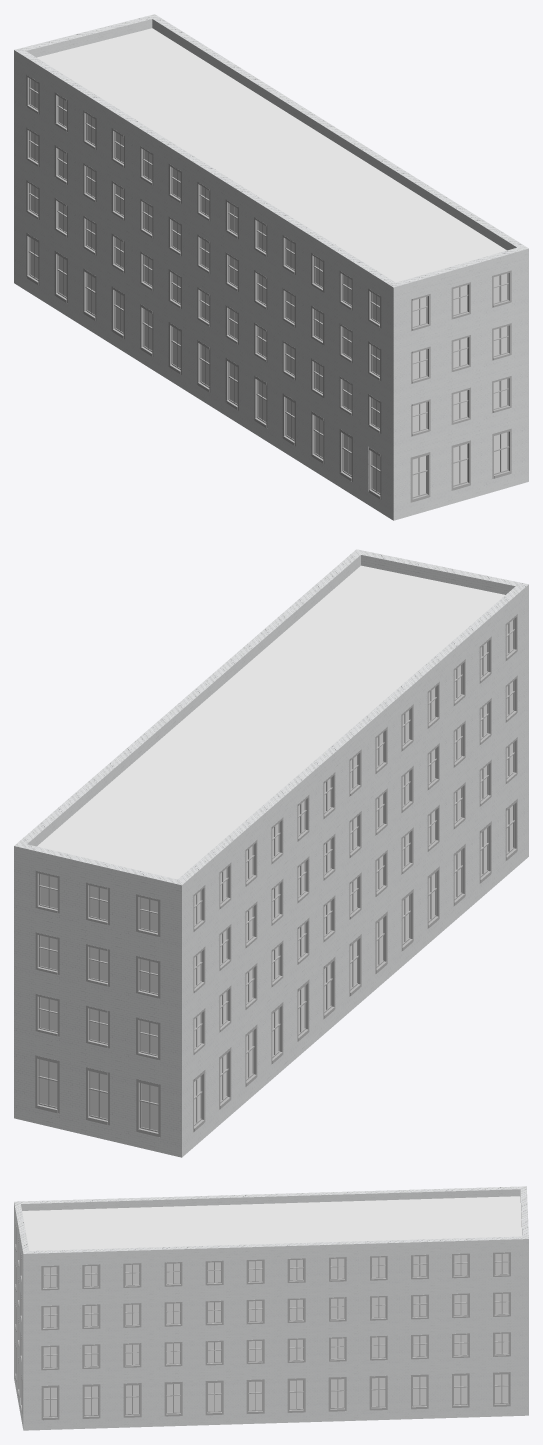
Rendered from clohboqy602ut4p02zscvk64k_0.glb.
3 views of the same model, one above another, from view 1: azimuth 30°, elevation 25°; view 2: azimuth 150°, elevation 25°; view 3: azimuth 270°, elevation 25° (orthographic). The views are drawn at different scales.
Parts seen in each view (by area): view 1: mesh_Brick, mesh_CityEnginePBRShader, mesh_Rim, mesh_Glass; view 2: mesh_Brick, mesh_CityEnginePBRShader, mesh_Rim, mesh_Glass; view 3: mesh_Brick, mesh_CityEnginePBRShader, mesh_Rim, mesh_Glass.
Boxes of the visible parts, x1,y1,x2,y2 form: mesh_Brick: (14,14,528,520); mesh_CityEnginePBRShader: (37,28,506,282); mesh_Rim: (26,74,511,502); mesh_Glass: (30,79,507,496); mesh_Brick: (14,549,528,1157); mesh_CityEnginePBRShader: (37,565,505,879); mesh_Rim: (35,614,517,1137); mesh_Glass: (40,620,512,1130); mesh_Brick: (14,1186,528,1430); mesh_CityEnginePBRShader: (22,1196,522,1250); mesh_Rim: (15,1223,510,1420); mesh_Glass: (43,1253,508,1416).
Size of the model in its own units: 12.49 by 15.23 by 40.22.
Materials: 4 (1 with a texture image).
